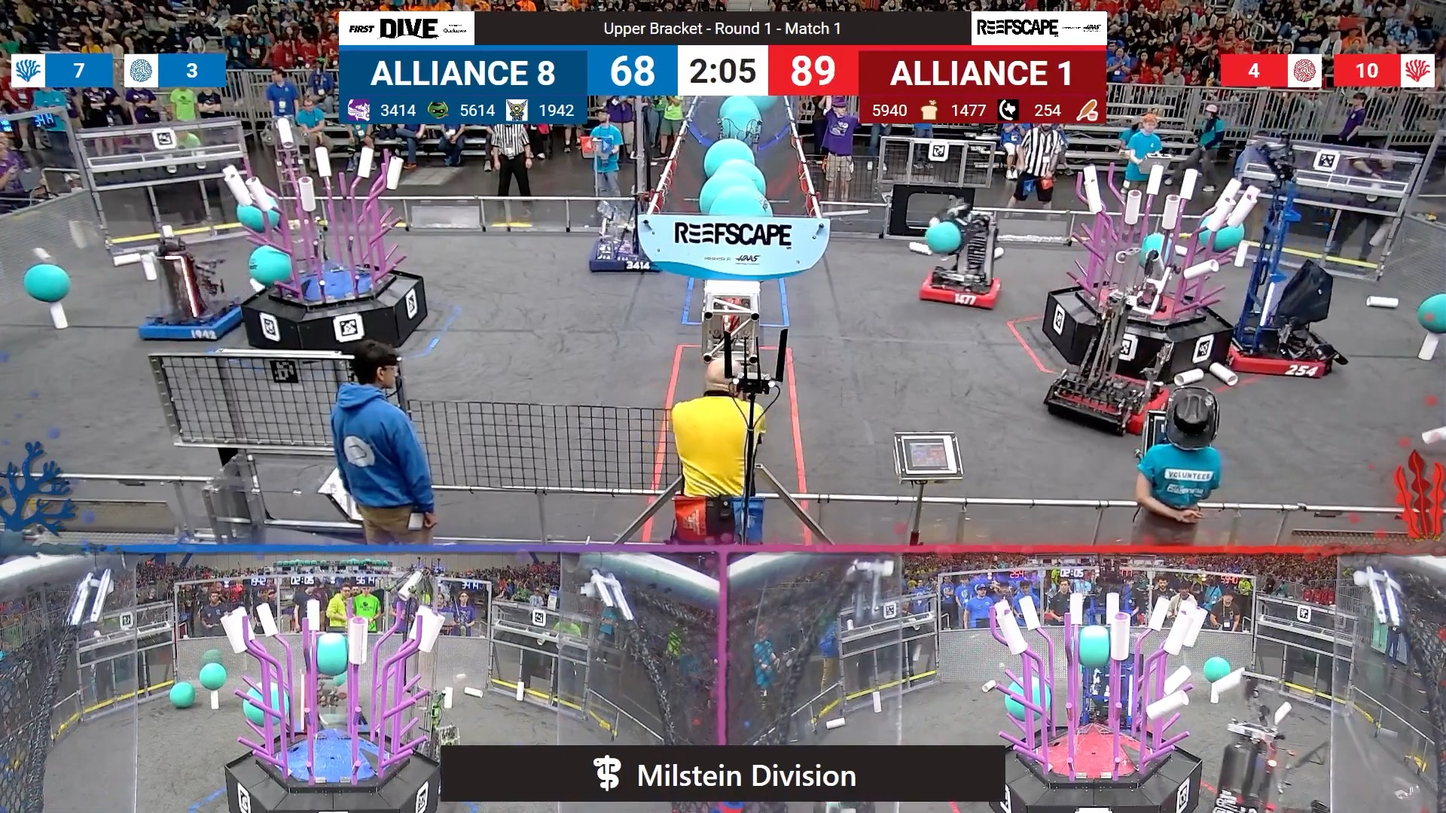bumpers: (1045, 375, 1183, 440), (1220, 326, 1343, 388), (140, 296, 255, 346), (913, 262, 1009, 316), (585, 235, 668, 277)
